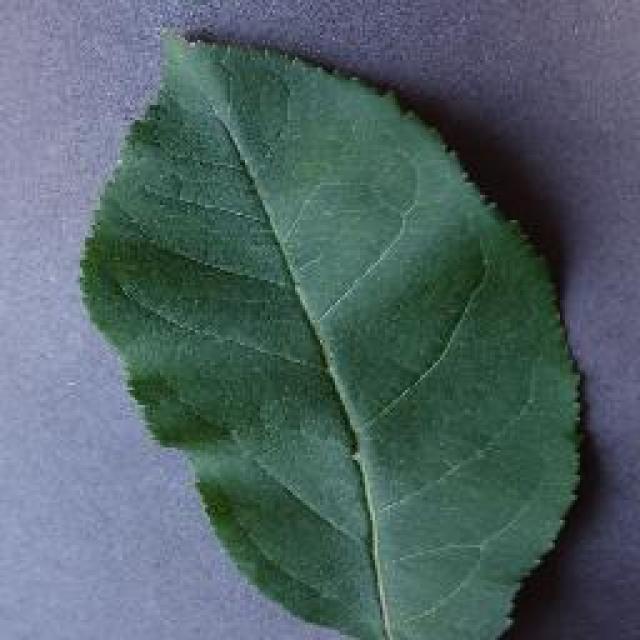apple healthy: (75, 25, 587, 637)
